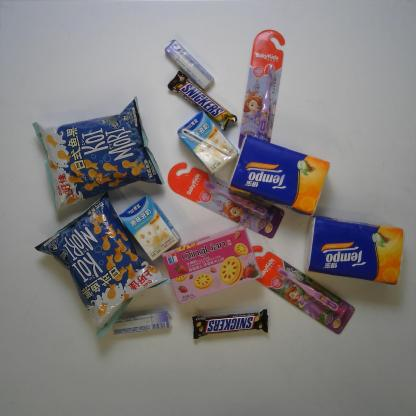Candy: (164, 38, 214, 92), (112, 310, 171, 336)
Chocolate: (167, 71, 238, 132), (191, 309, 268, 339)
Dessert: (161, 227, 262, 305)
Milk: (119, 195, 181, 262), (176, 109, 239, 173)
Personal Hygiene: (250, 245, 355, 335), (167, 162, 285, 240), (238, 29, 285, 150)
Puffed Food: (34, 188, 173, 340), (33, 96, 165, 217)
Tissue: (228, 134, 331, 218), (305, 215, 405, 287)
